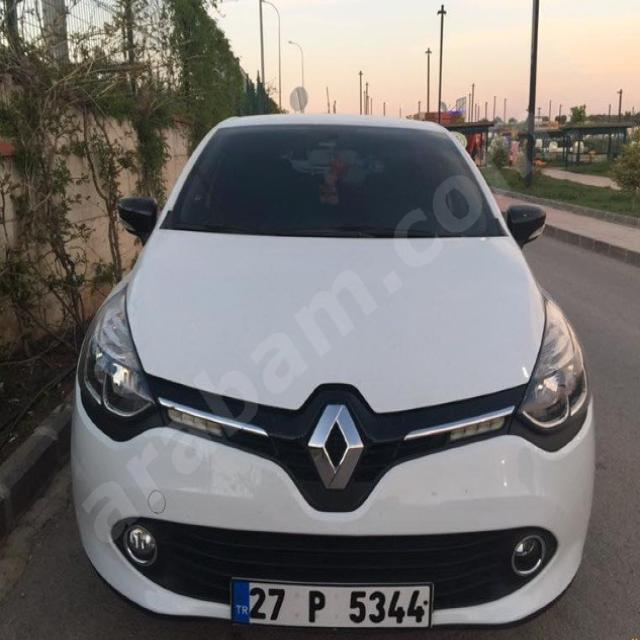license_plate: (229, 578, 432, 628)
